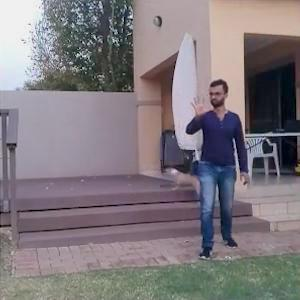follow_hand: (186, 88, 213, 120)
